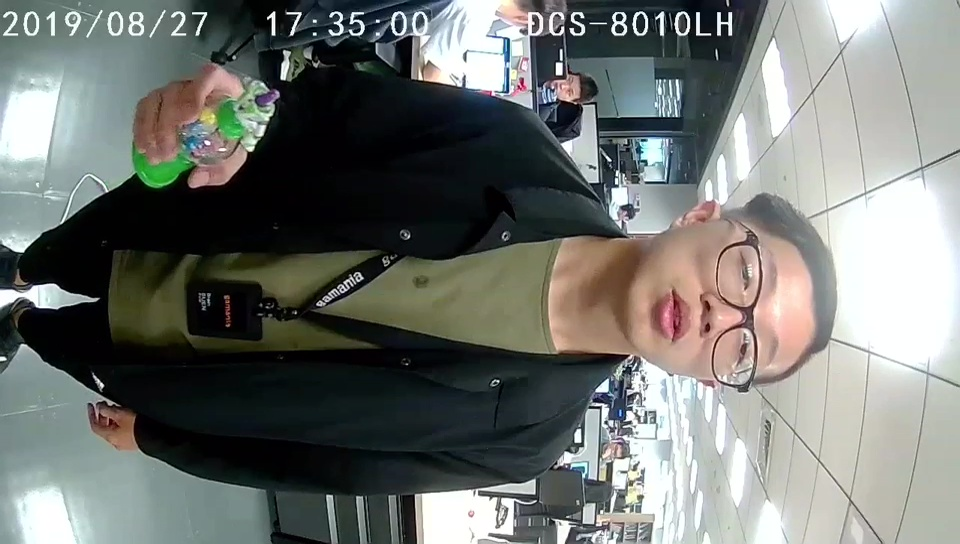buzz: (129, 76, 280, 187)
